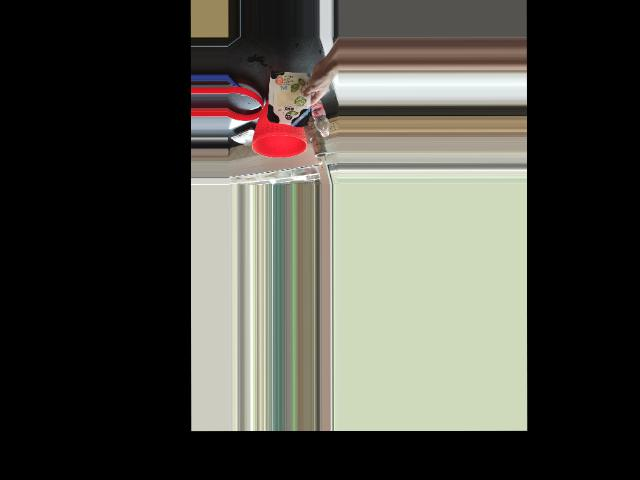cheese: (267, 75, 321, 127)
